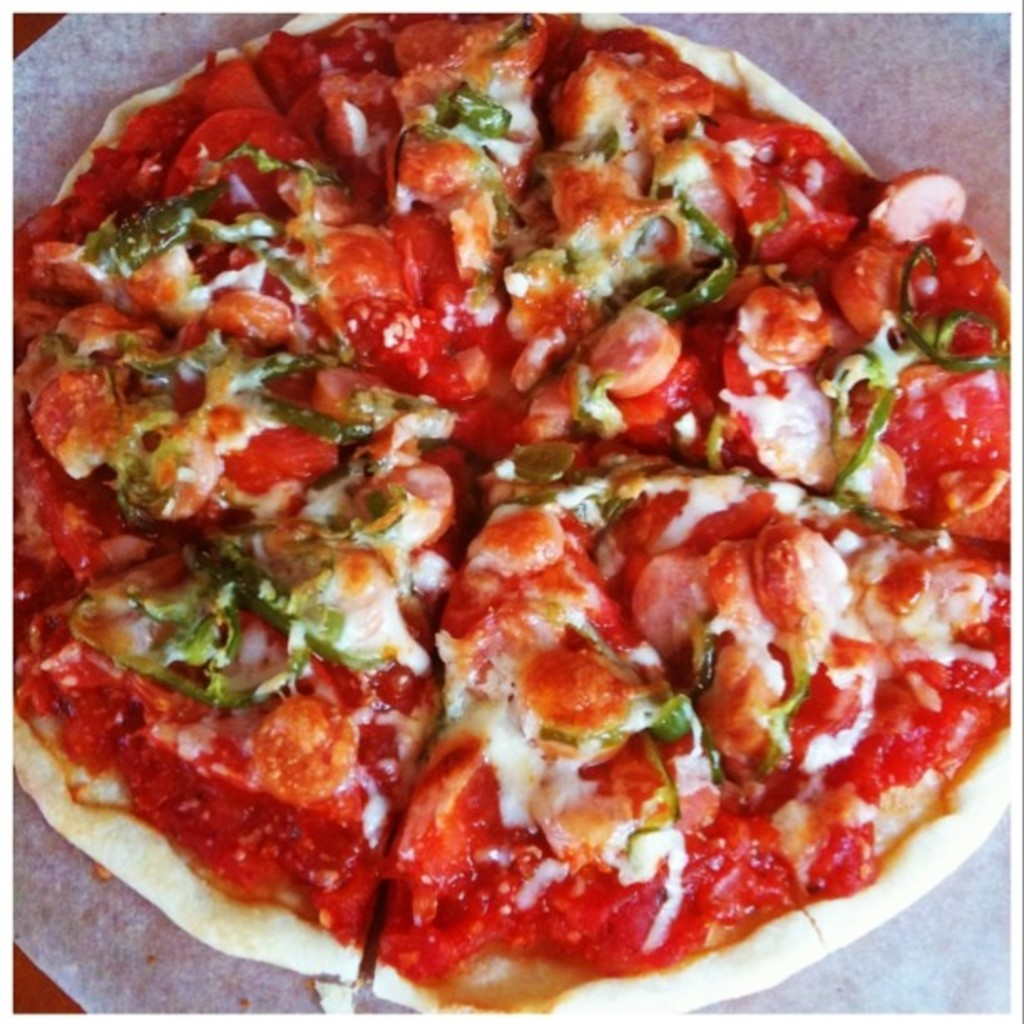Pizza: (13, 0, 1010, 1017)
